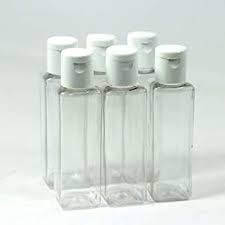available: (54, 78, 104, 211), (102, 74, 148, 210), (149, 71, 192, 208)
